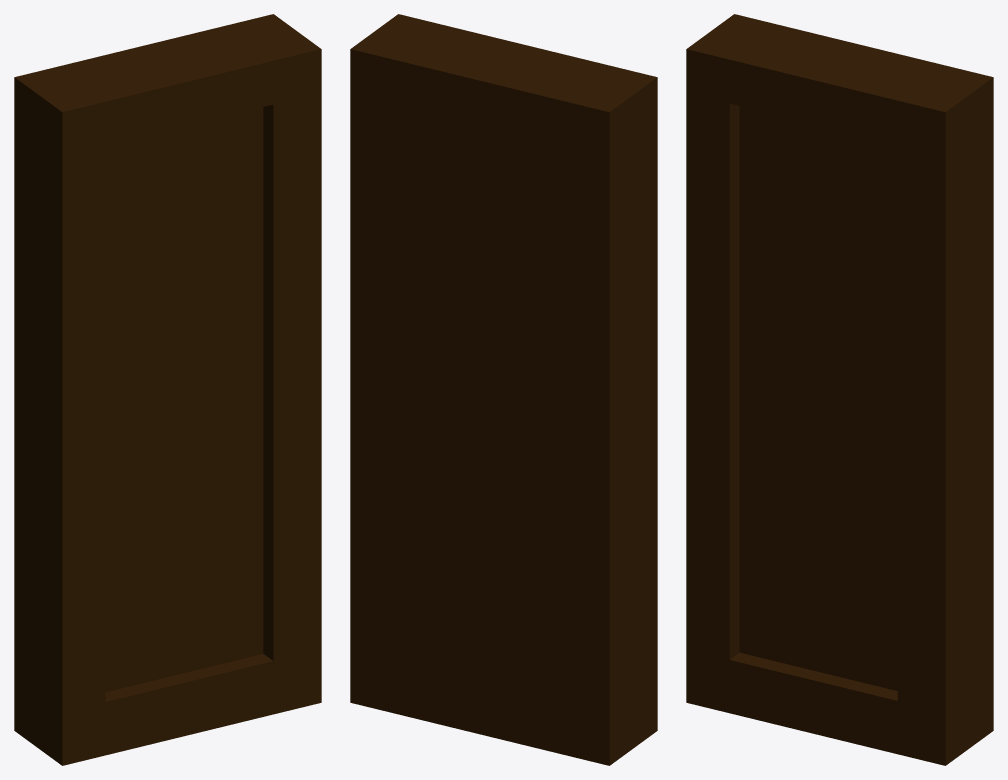
Rendered from Door_L 1.fbx.
3 views of the same model, side by side, from view 1: azimuth 30°, elevation 25°; view 2: azimuth 150°, elevation 25°; view 3: azimuth 330°, elevation 25° (orthographic).
Parts seen in each view (by area): view 1: Door_L; view 2: Door_L; view 3: Door_L.
Part boxes in pixels (x1,y1,x2,y2): Door_L: (14, 14, 321, 765); Door_L: (350, 14, 657, 765); Door_L: (686, 14, 993, 765).
Bounding box in the file's own units: 78.82 × 190 × 25.27.
